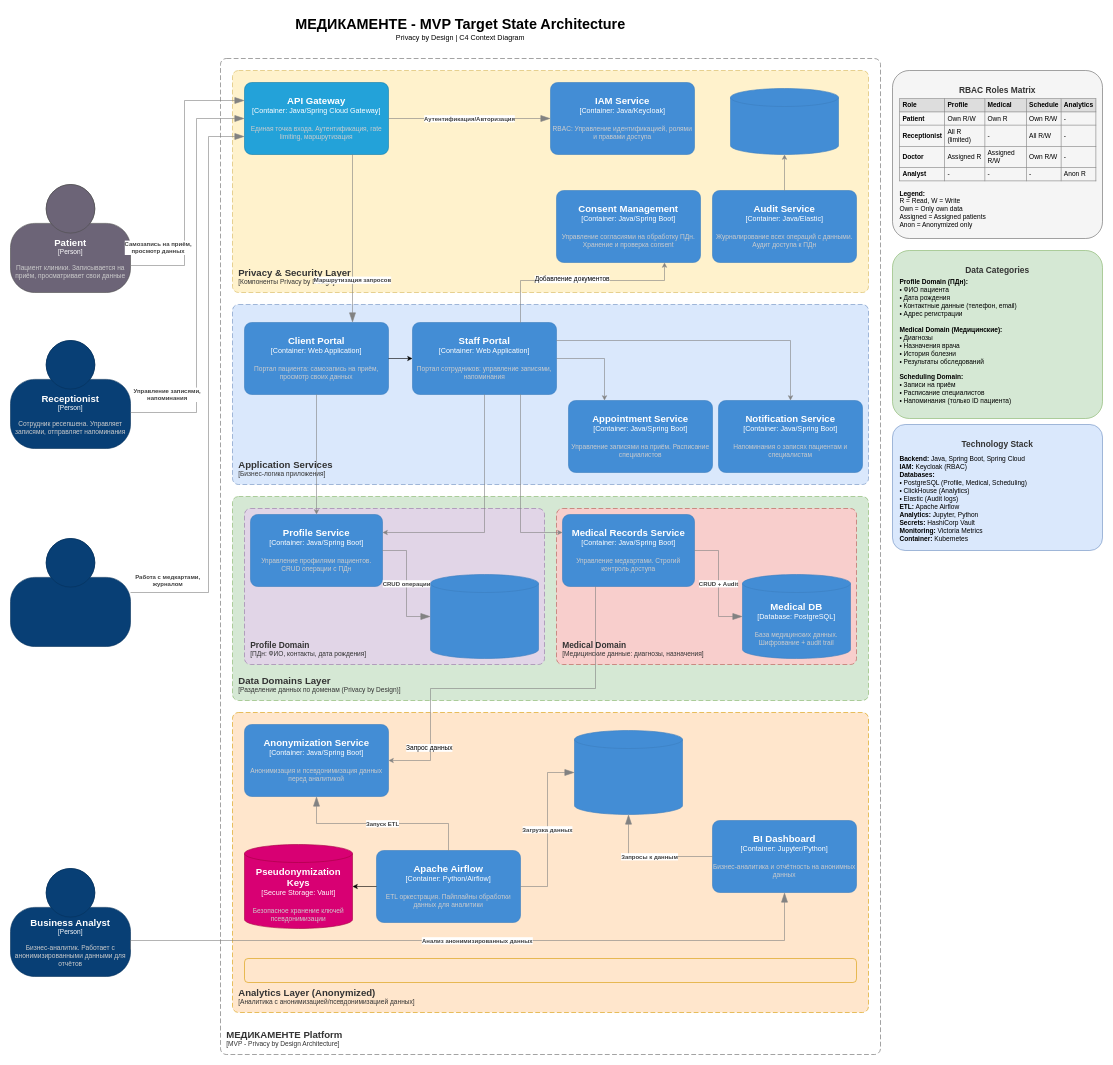
Image size: 1113x1065. Some labels were removed from this diagram. The centre of each missing label's shape, as x and y in pixels:
Analytics DB [Database: ClickHouse] Хранилище анонимизированных данных для BI: pixel 628 772
Audit DB [Database: PostgreSQL] База событий запроса данных.: pixel 784 121
Doctor [Person] Медицинский специалист. Ведёт приём, работает с медкартами: pixel 70 592
ETL Pipeline Profile + Medical → Anonymize → Analytics: pixel 550 970
Profile DB [Database: PostgreSQL] База данных профилей. Шифрование at rest: pixel 484 616
